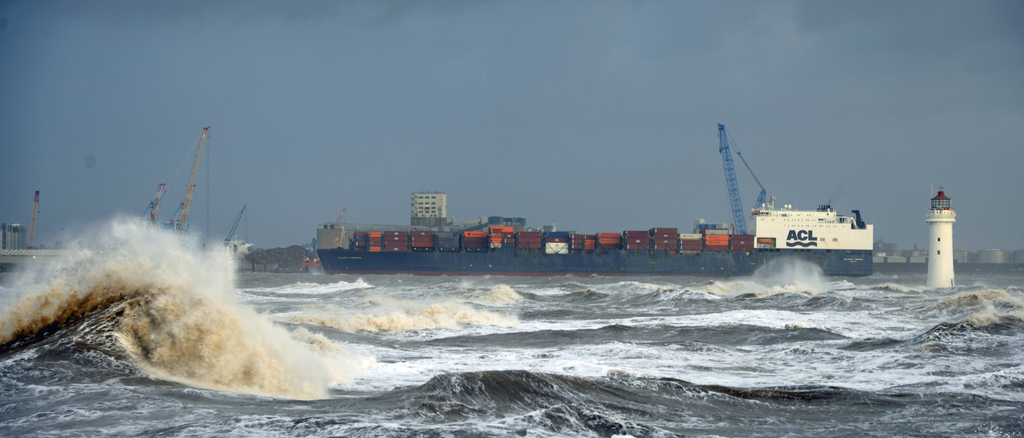boat: (302, 188, 889, 299)
